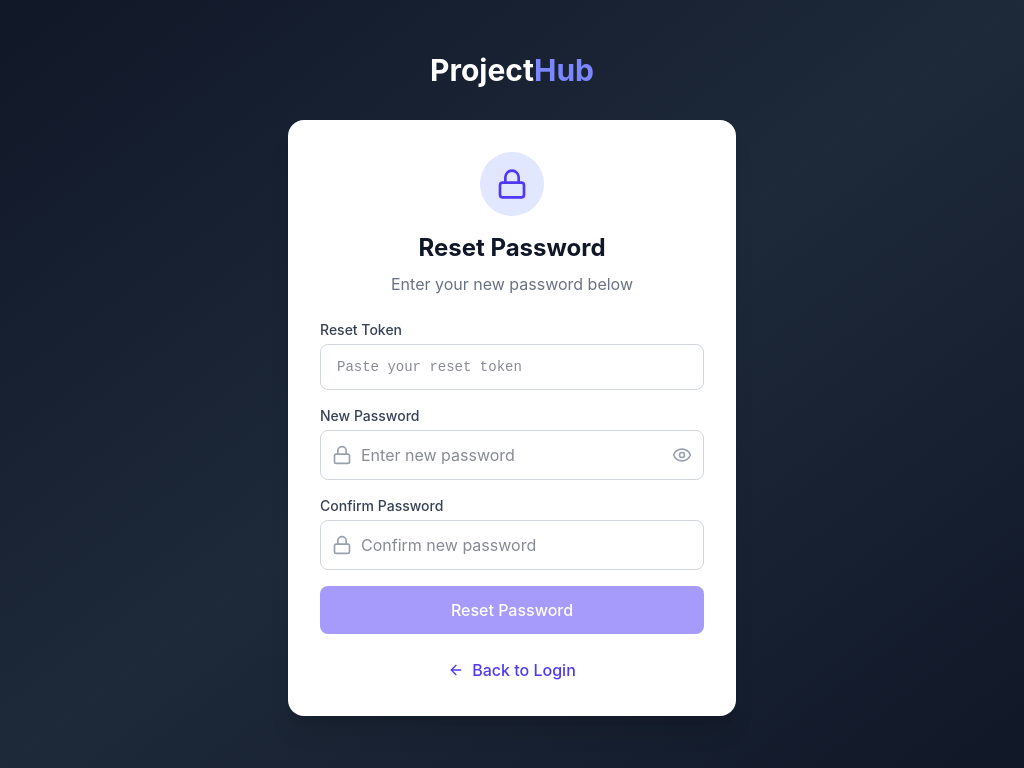
ResetPassword › shows password length warning
Type "abc" into the password field with placeholder "Enter new password". click: (512,455)
box: [320,430,704,480]
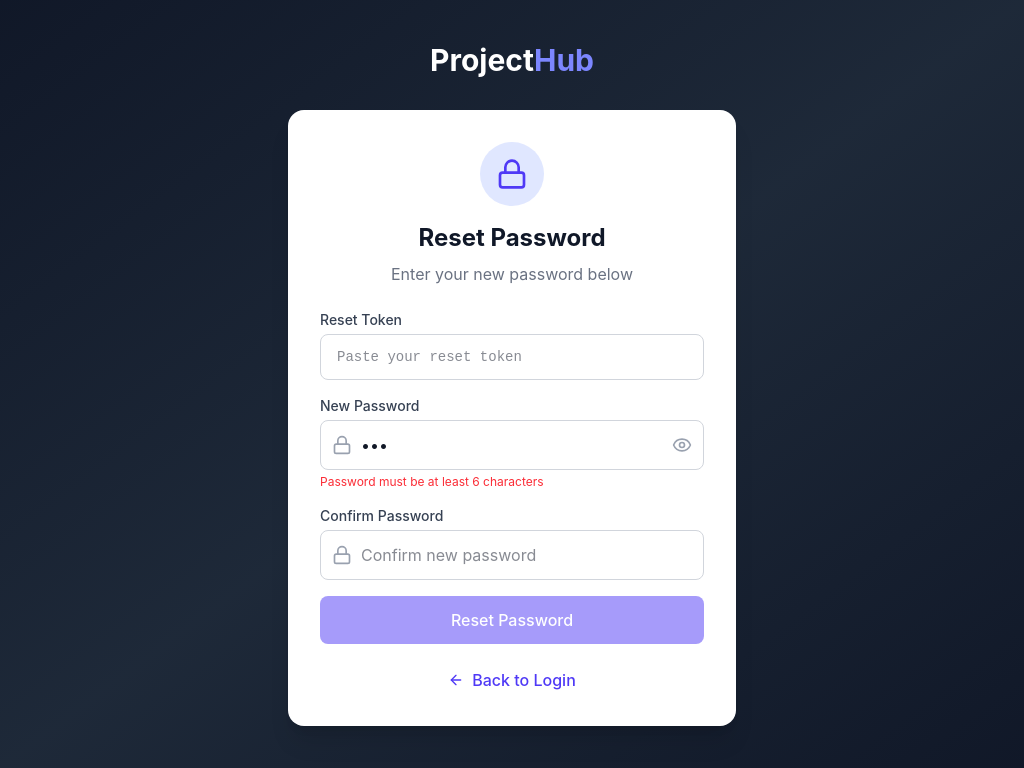
Now the text "Password must be at least 6 characters" is shown, box [320,474,544,489]
